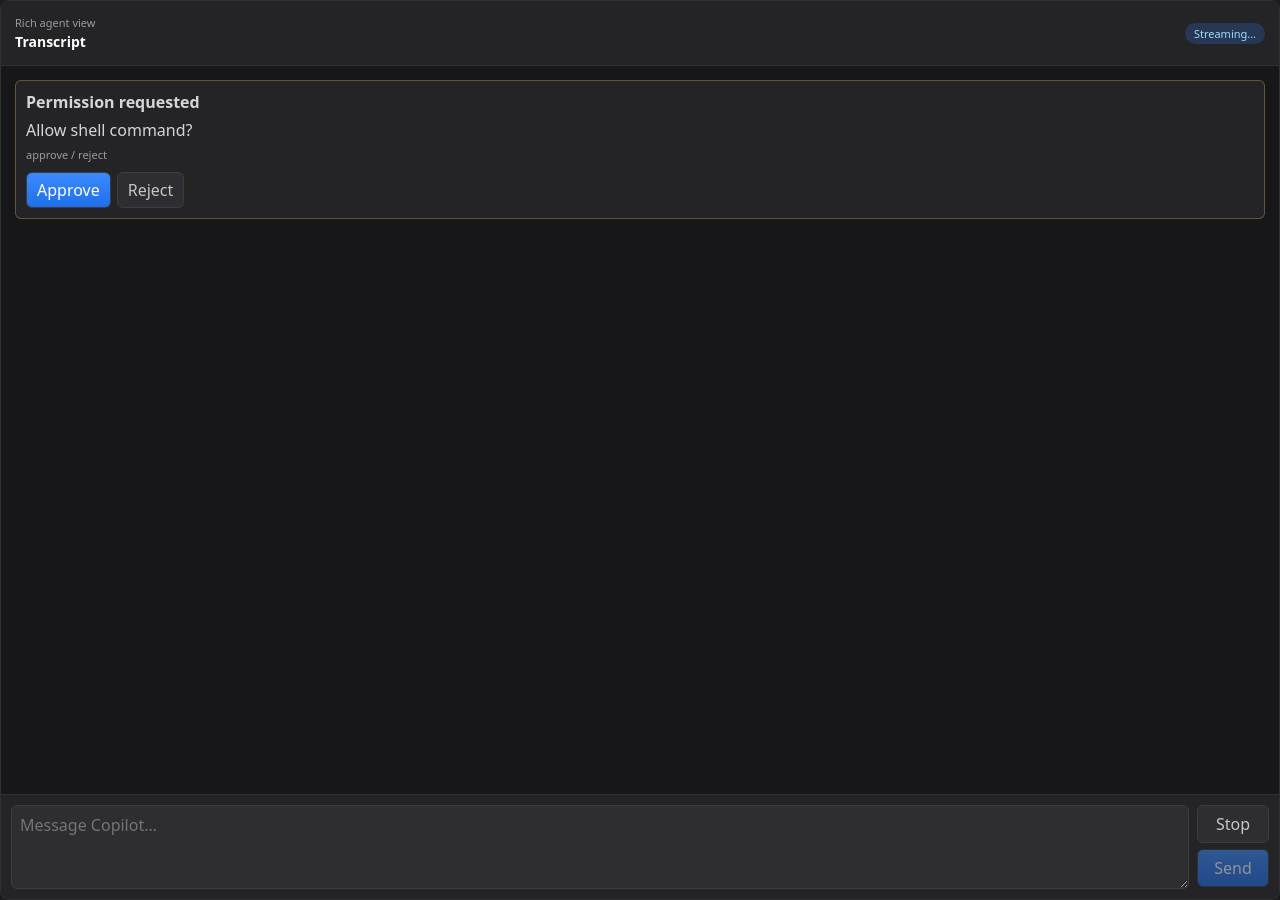
Test case: TranscriptView › answers a permission request and disables its controls
The width and height of the screenshot is (1280, 900).
Click the button "Approve".
click(68, 190)  # box [26, 172, 111, 208]
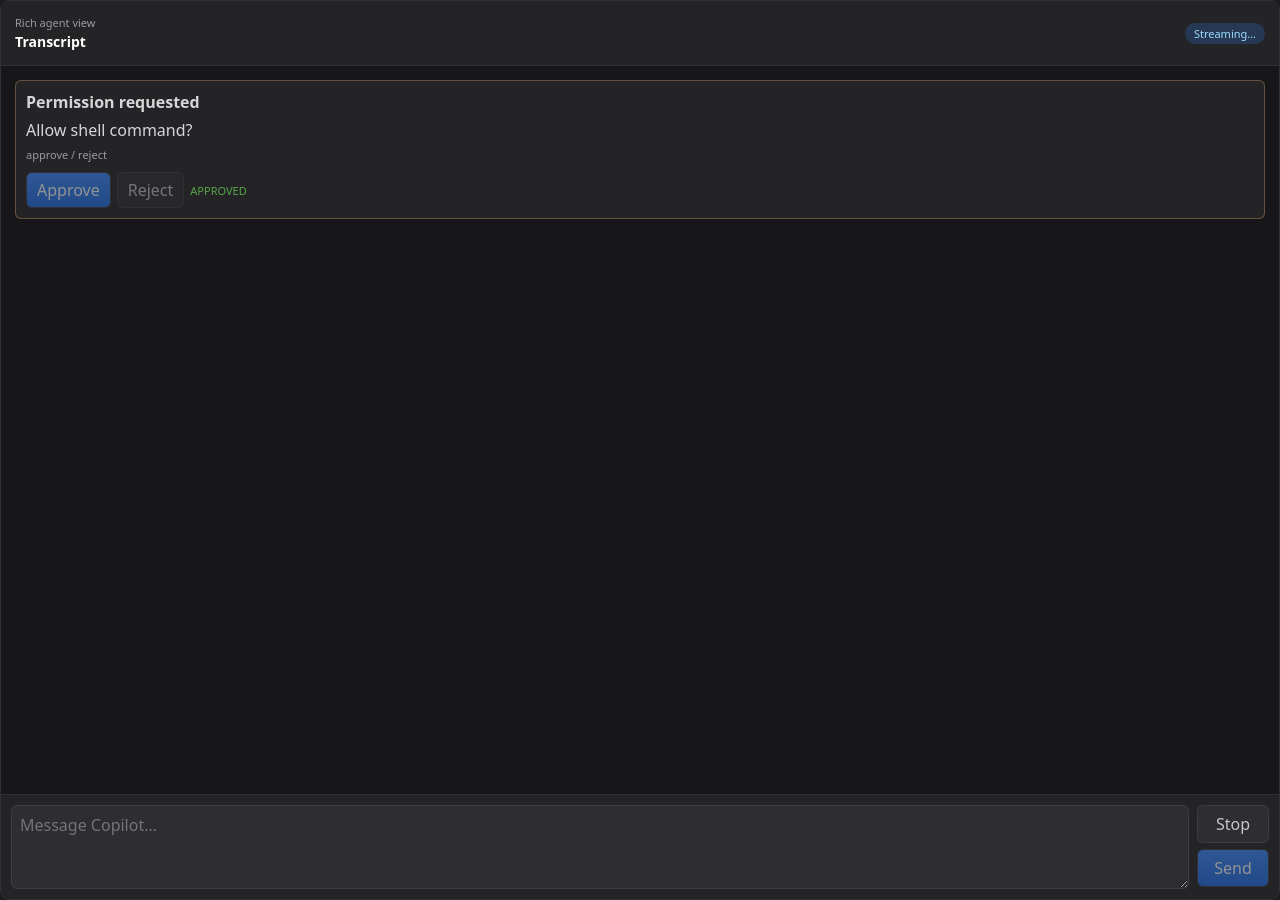
Result: the button "Approve" is disabled at [26, 172, 111, 208]
Result: the button "Reject" is disabled at [117, 172, 184, 208]
Result: the text "approved" is shown at [190, 182, 247, 198]
